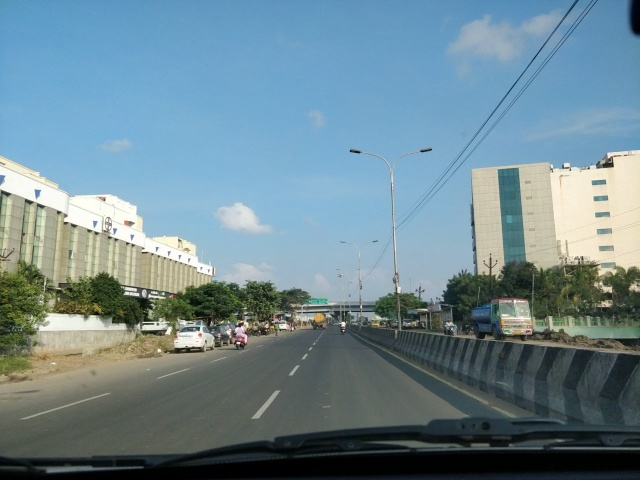car: (181, 325, 215, 352)
motorbike: (233, 322, 248, 349), (439, 316, 459, 336), (337, 318, 349, 333)
truck: (468, 297, 536, 339), (310, 313, 326, 328)
